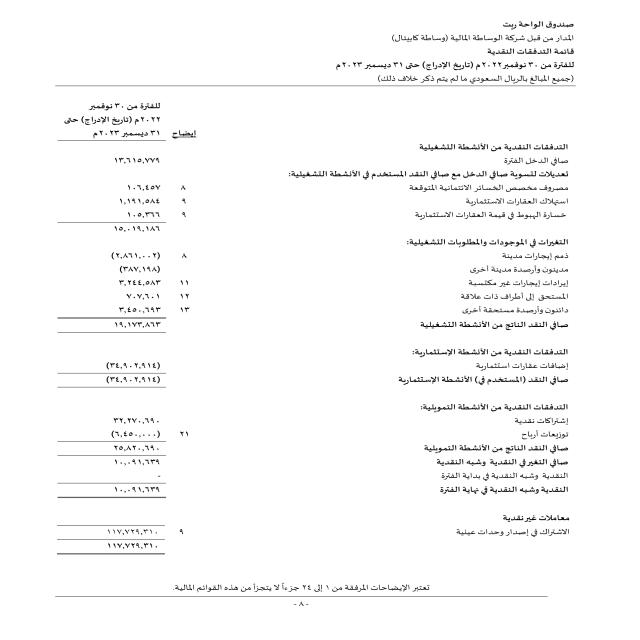financial_sheets: (480, 46, 590, 58)
table: (31, 86, 214, 567)
